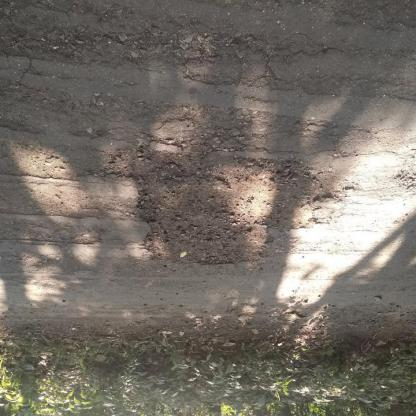pothole: (125, 140, 345, 269)
